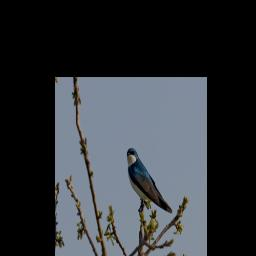Swallow: (122, 130, 175, 231)
